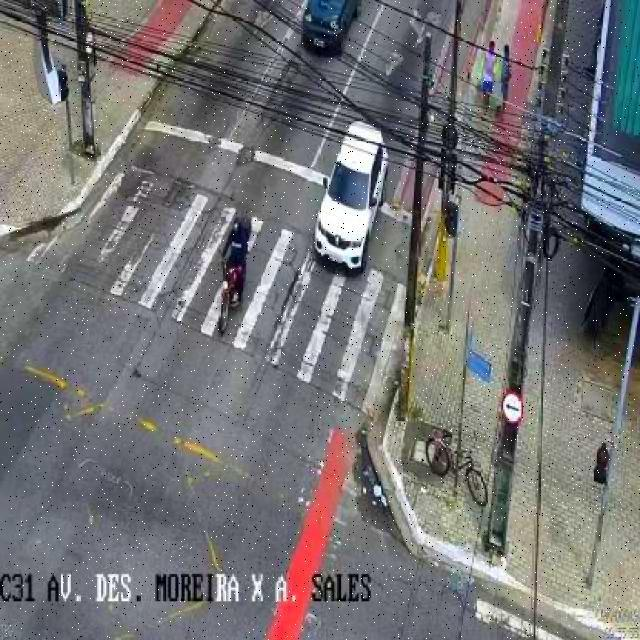Car: (312, 122, 389, 272), (300, 0, 361, 54)
Cycle: (423, 422, 491, 506), (214, 255, 246, 335)
